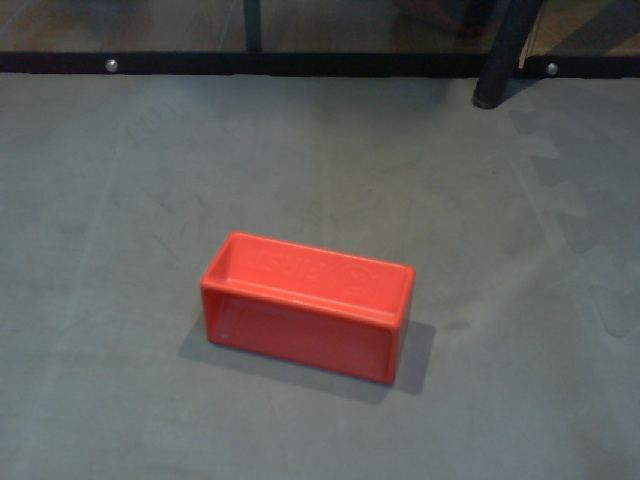RedSample: (198, 229, 418, 388)
